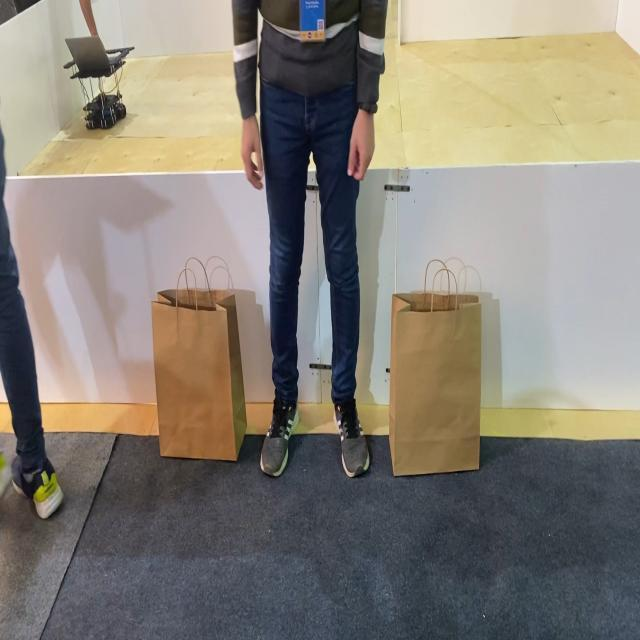Paper_Bag: (389, 258, 482, 478), (151, 256, 247, 462)
